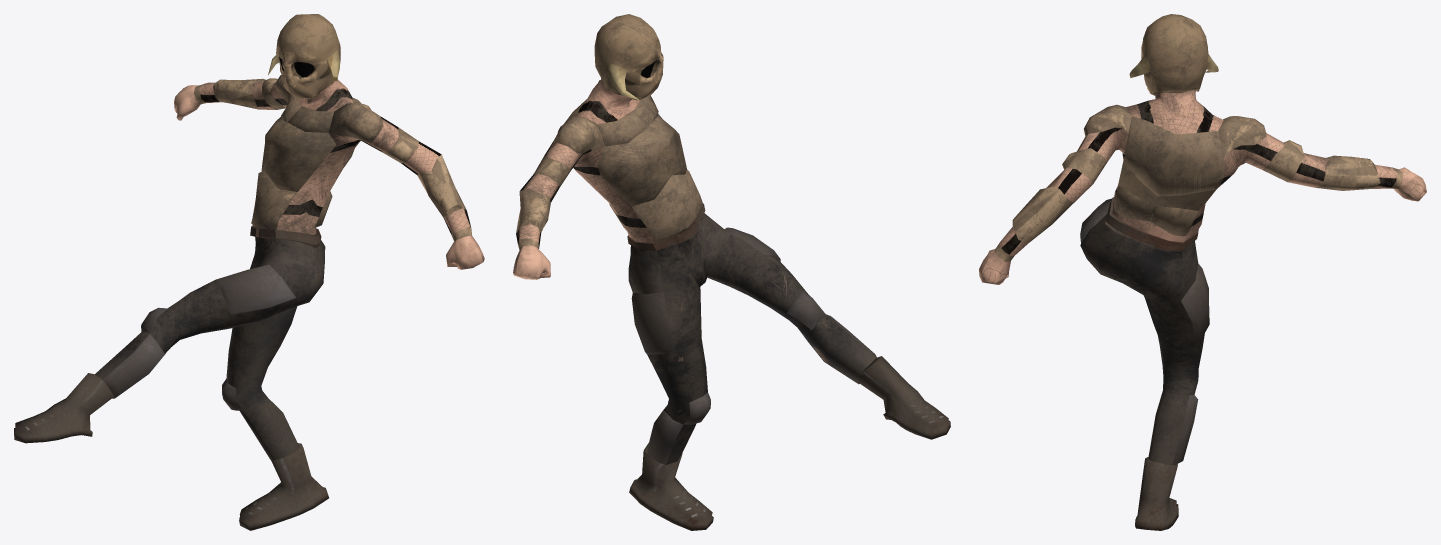
The model's file is Anim_ataque_f3_npc1.0033.obj.
The picture shows the model from 3 angles, left to right: view 1: azimuth 30°, elevation 25°; view 2: azimuth 150°, elevation 25°; view 3: azimuth 270°, elevation 25°; orthographic projection. The views are drawn at different scales.
Parts seen in each view (by area): view 1: NPC2; view 2: NPC2; view 3: NPC2.
Boxes of the visible parts, <box> form: NPC2: <box>14,14,484,530</box>; NPC2: <box>513,14,950,530</box>; NPC2: <box>979,14,1426,530</box>.
Size of the model in its own units: 7.84 by 9.27 by 7.11.
